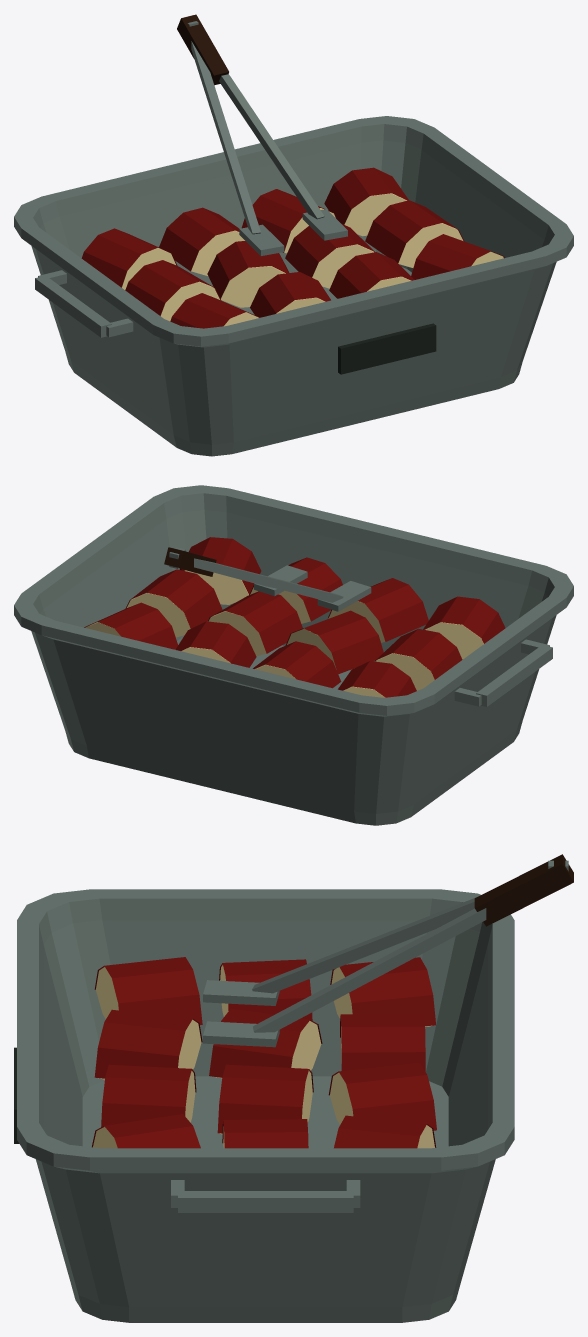
Rendered from 05_Apple_Pan.fbx.
3 views of the same model, one above another, from view 1: azimuth 30°, elevation 25°; view 2: azimuth 150°, elevation 25°; view 3: azimuth 270°, elevation 25° (orthographic). The views are drawn at different scales.
Parts seen in each view (by area): view 1: Container.004, Food.004, Utensil.004; view 2: Container.004, Food.004, Utensil.004; view 3: Container.004, Food.004, Utensil.004.
Part boxes in pixels (left/top/right/bottom): Container.004: left=14, top=116, right=573, bottom=456; Food.004: left=81, top=167, right=504, bottom=328; Utensil.004: left=177, top=14, right=347, bottom=255; Container.004: left=14, top=485, right=573, bottom=825; Food.004: left=84, top=537, right=505, bottom=697; Utensil.004: left=164, top=547, right=371, bottom=611; Container.004: left=14, top=889, right=514, bottom=1322; Food.004: left=92, top=957, right=436, bottom=1148; Utensil.004: left=203, top=854, right=573, bottom=1047.
Size of the model in its own units: 71.1 by 40.55 by 57.38.
Materials: 2 (2 with a texture image).
